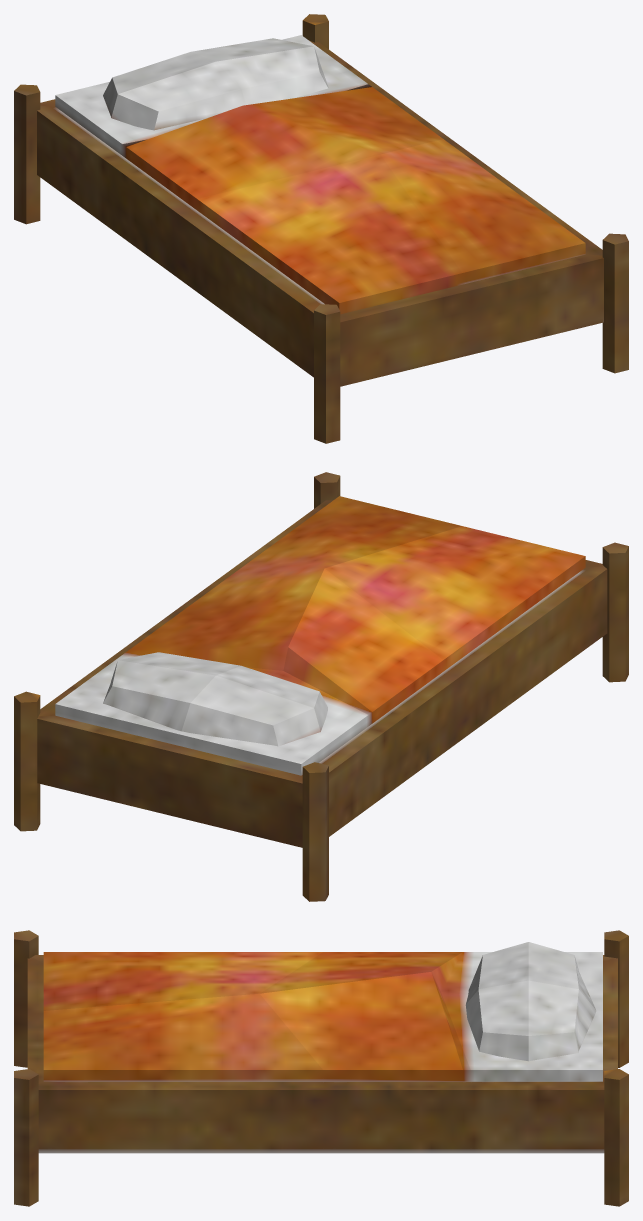
The model's file is bed.fbx.
The picture shows the model from 3 angles, top to bottom: view 1: azimuth 30°, elevation 25°; view 2: azimuth 150°, elevation 25°; view 3: azimuth 270°, elevation 25°; orthographic projection.
Visible parts, largest first — view 1: Cube; view 2: Cube; view 3: Cube.
Part boxes in pixels (bbox=[...]): Cube: bbox=[14, 14, 628, 443]; Cube: bbox=[14, 472, 628, 901]; Cube: bbox=[14, 930, 628, 1206].
Bounding box in the file's own units: 253 × 120 × 440.
